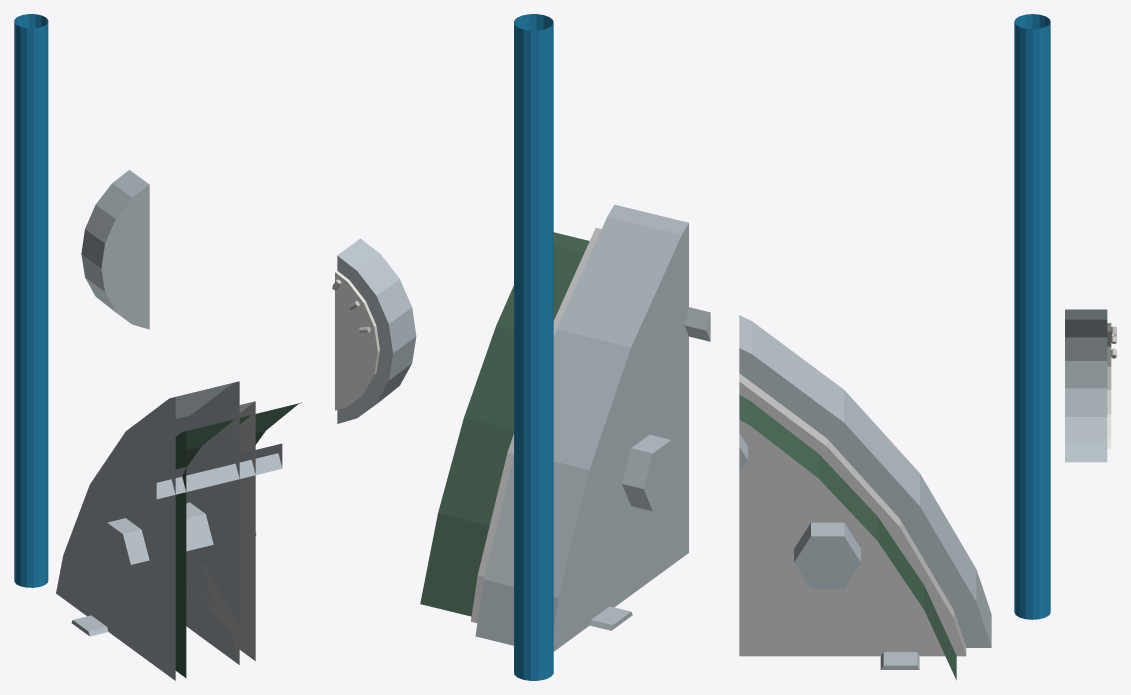
Rendered from cell_55.obj.
3 views of the same model, side by side, from view 1: azimuth 30°, elevation 25°; view 2: azimuth 150°, elevation 25°; view 3: azimuth 270°, elevation 25° (orthographic). The views are drawn at different scales.
Size of the model in its own units: 0.278 by 1 by 0.579.
